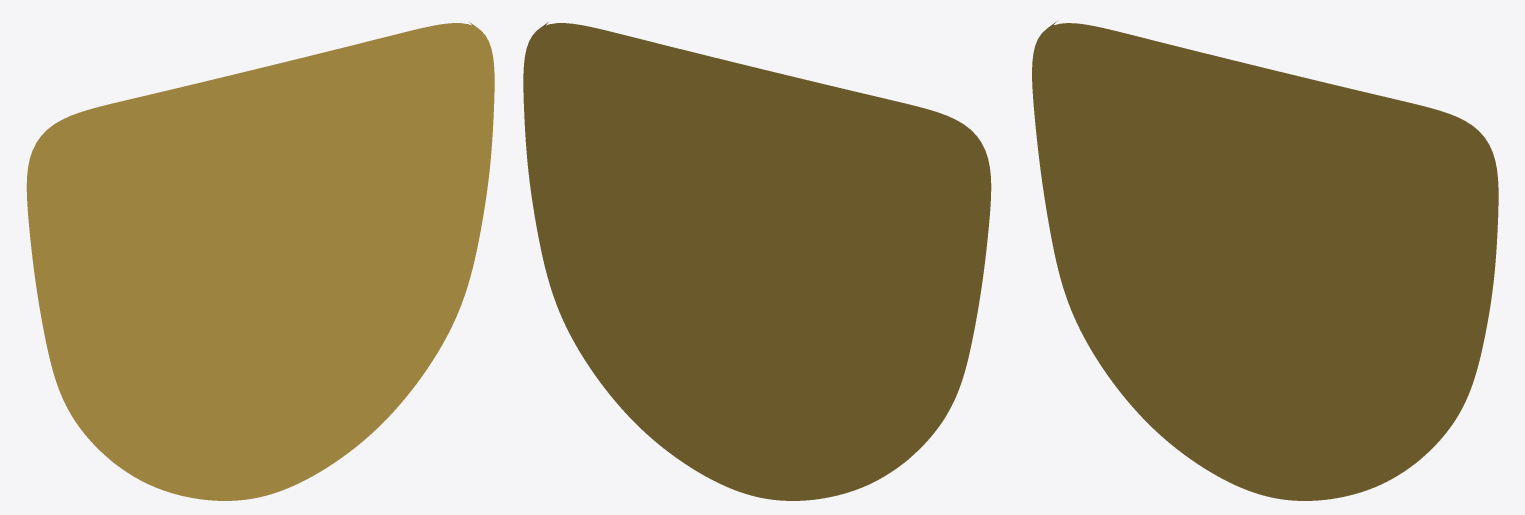
The model's file is SG-HEEL-POST-FLAT_LEFT_addon.glb.
3 renders of one model, left to right at view 1: azimuth 30°, elevation 25°; view 2: azimuth 150°, elevation 25°; view 3: azimuth 330°, elevation 25°, orthographic.
Parts seen in each view (by area): view 1: world; view 2: world; view 3: world.
Boxes of the visible parts, x1,y1,x2,y2 form: world: [26, 22, 494, 500]; world: [523, 22, 991, 500]; world: [1032, 21, 1498, 500].
Bounding box in the file's own units: 69.74 × 61.21 × 3.2.
